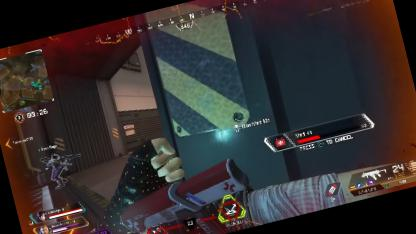Target: (44, 150, 74, 186)
